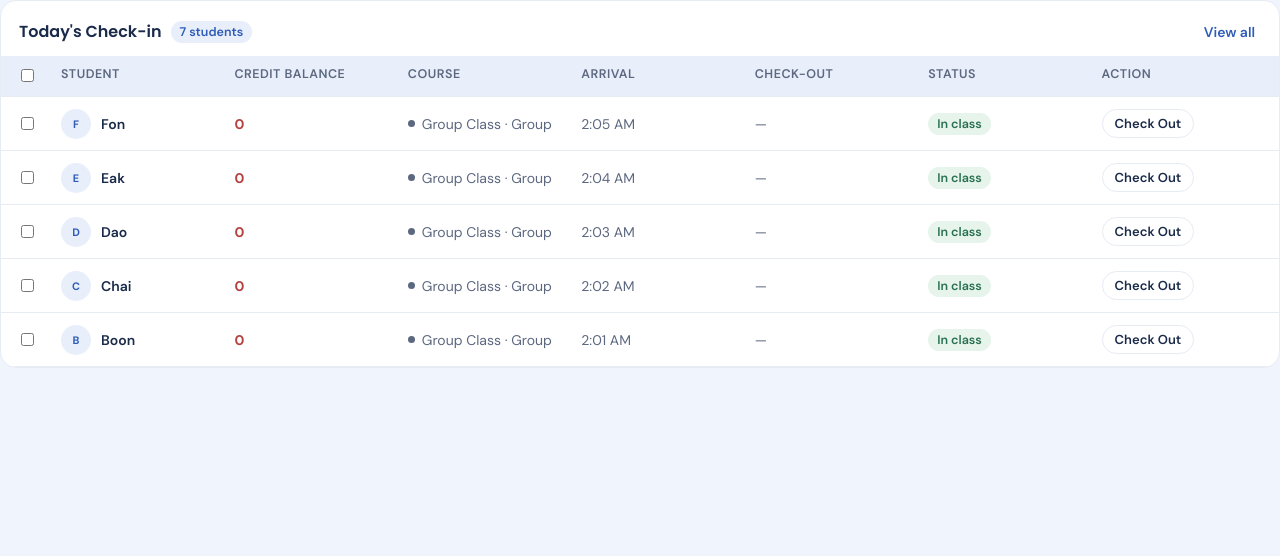
it: selecting who goes home › puts the bar away once the selection is cleared
The image size is (1280, 556).
Expected: the text "Fon" is shown, x1=101 y1=114 x2=125 y2=132
Click the checkbox named "Select everyone still in class": (28, 76) x1=21 y1=69 x2=34 y2=82
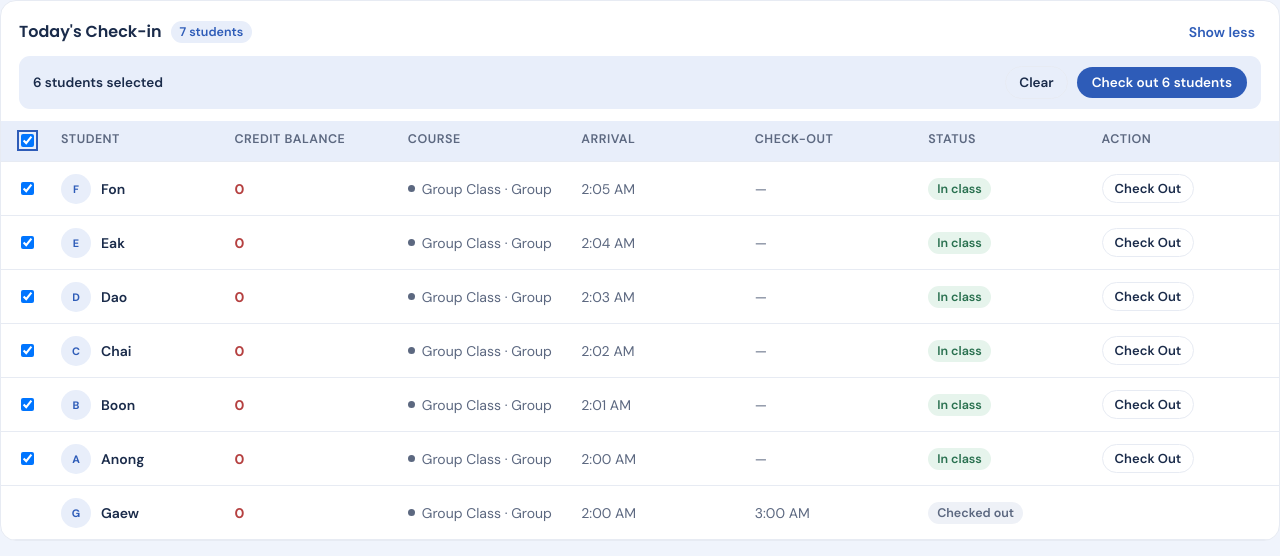
Now the text "6 students selected" is shown, box x1=33 y1=74 x2=163 y2=91
Click the button "Clear": (1036, 82) x1=1005 y1=66 x2=1068 y2=99
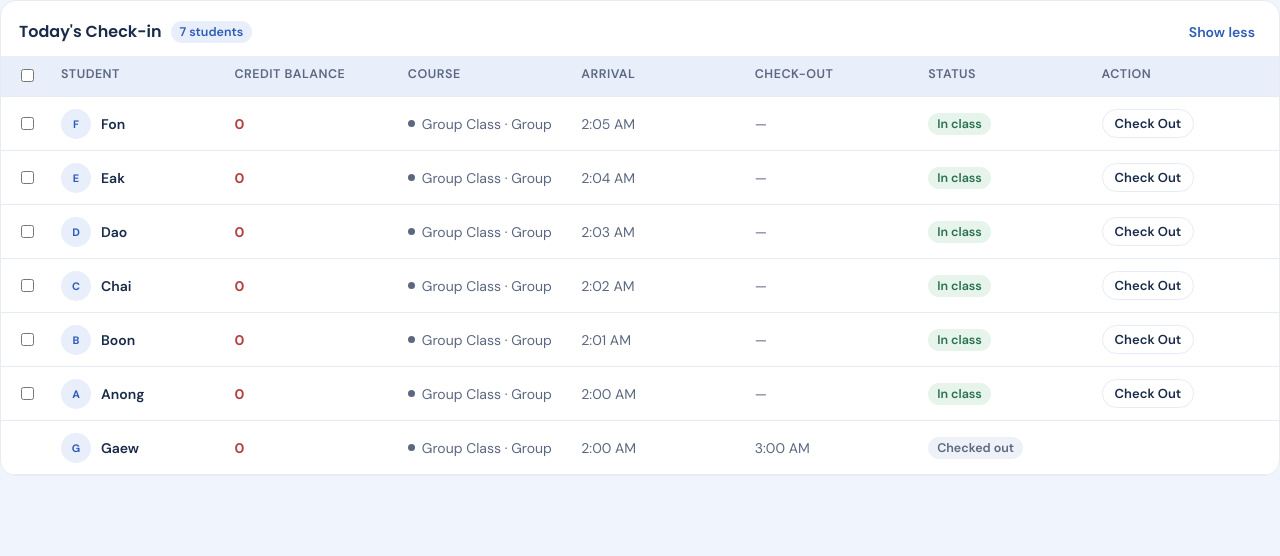
Now the text "6 students selected" is gone
